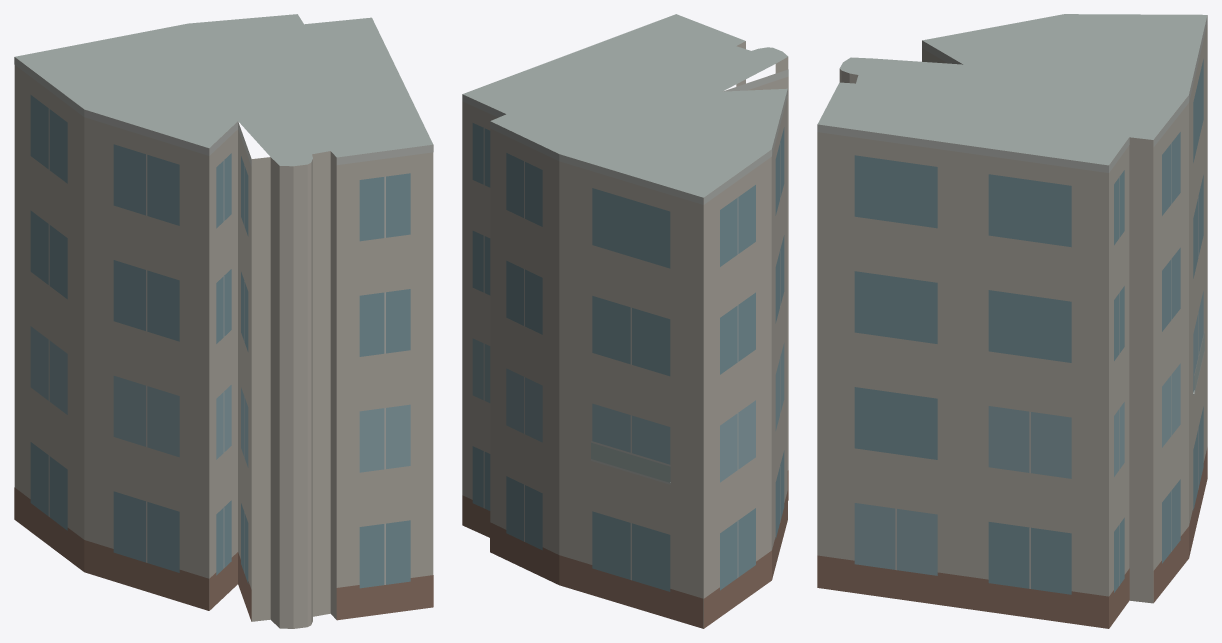
Rendered from survey-upis-33028390.glb.
3 renders of one model, left to right at view 1: azimuth 30°, elevation 25°; view 2: azimuth 150°, elevation 25°; view 3: azimuth 270°, elevation 25°, orthographic. The views are drawn at different scales.
Visible parts, largest first — view 1: survey-upis-33028390.tmp; view 2: survey-upis-33028390.tmp; view 3: survey-upis-33028390.tmp.
Boxes of the visible parts, x1=… form: survey-upis-33028390.tmp: x1=14, y1=14, x2=433, y2=628; survey-upis-33028390.tmp: x1=462, y1=14, x2=788, y2=628; survey-upis-33028390.tmp: x1=817, y1=14, x2=1207, y2=628.
Bounding box in the file's own units: 10.24 × 14.6 × 11.15.
